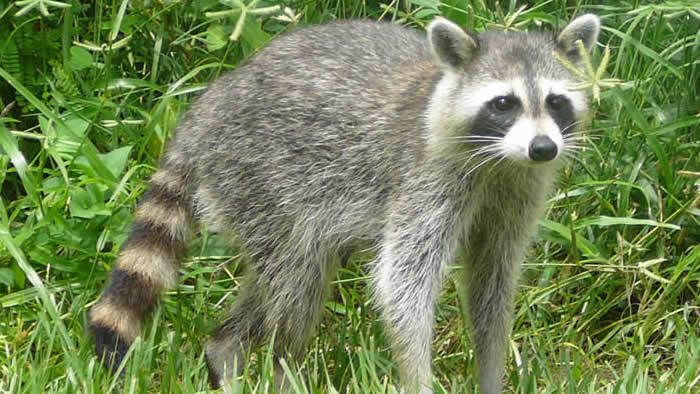raccoon: (90, 9, 625, 393)
